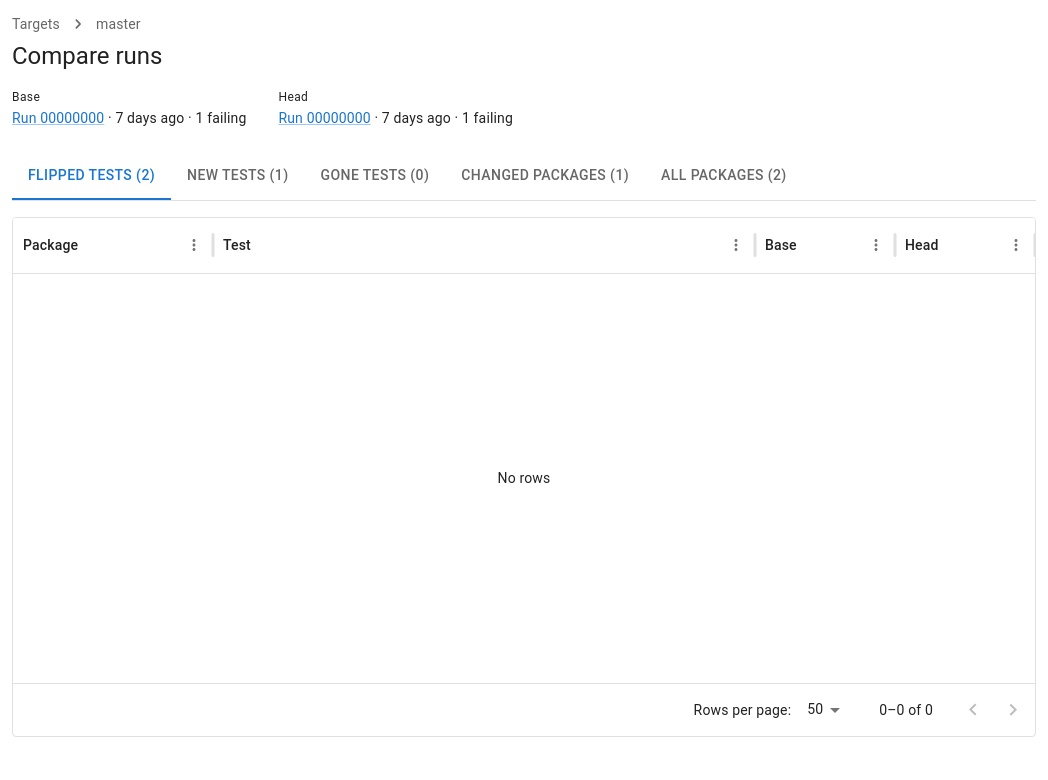
Test: ComparePage › has one row of tabs: the three test lists, then the two package views
The width and height of the screenshot is (1048, 780).
Click the tab "Changed packages (1)": (545, 176) x1=445 y1=152 x2=645 y2=200
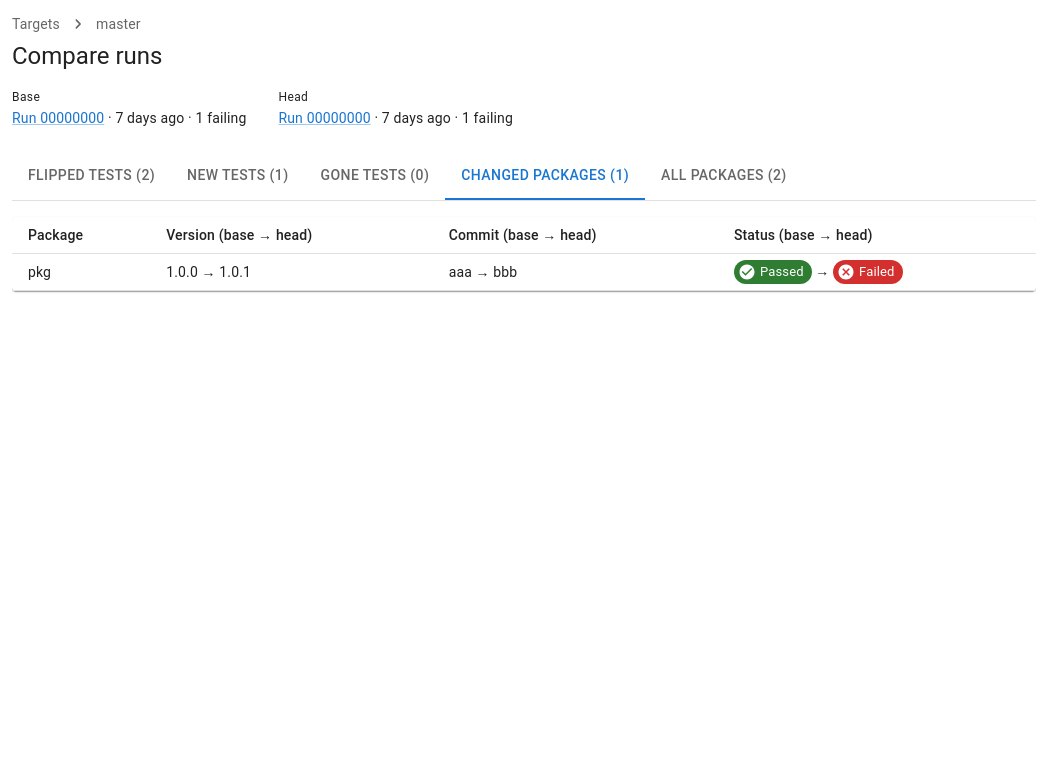
Expected: the text "steady-pkg" is not shown
Click the tab "All packages (2)": (724, 176) x1=645 y1=152 x2=803 y2=200
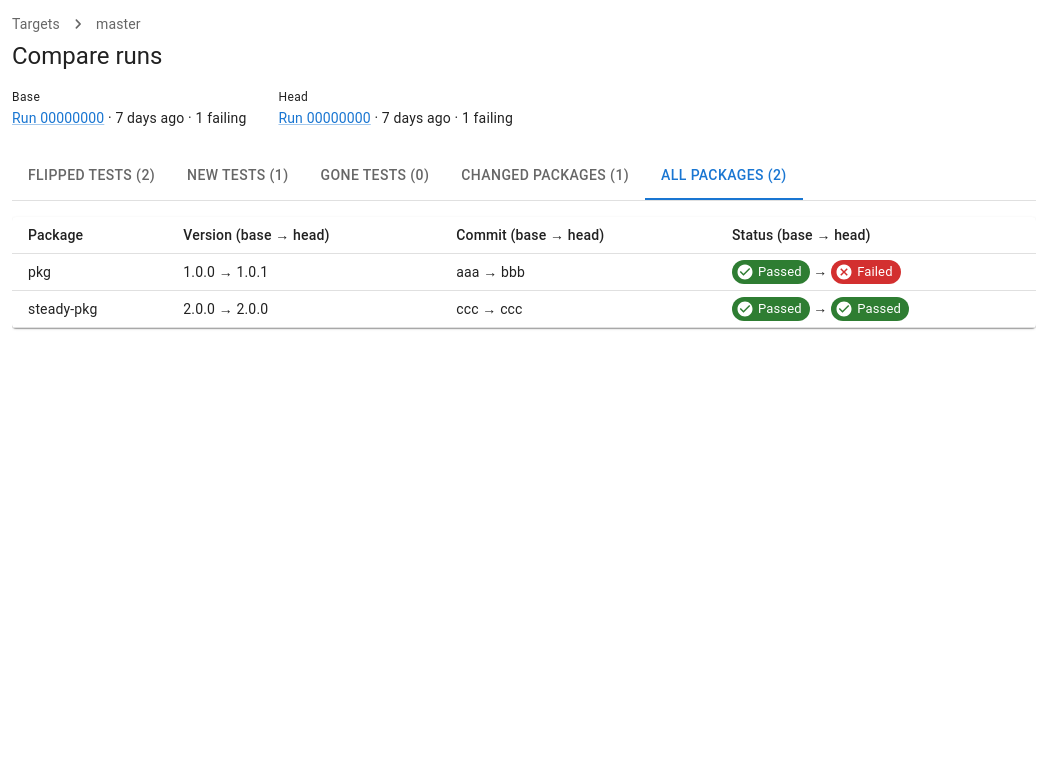
Expected: the text "steady-pkg" is shown, x1=12 y1=290 x2=167 y2=327
